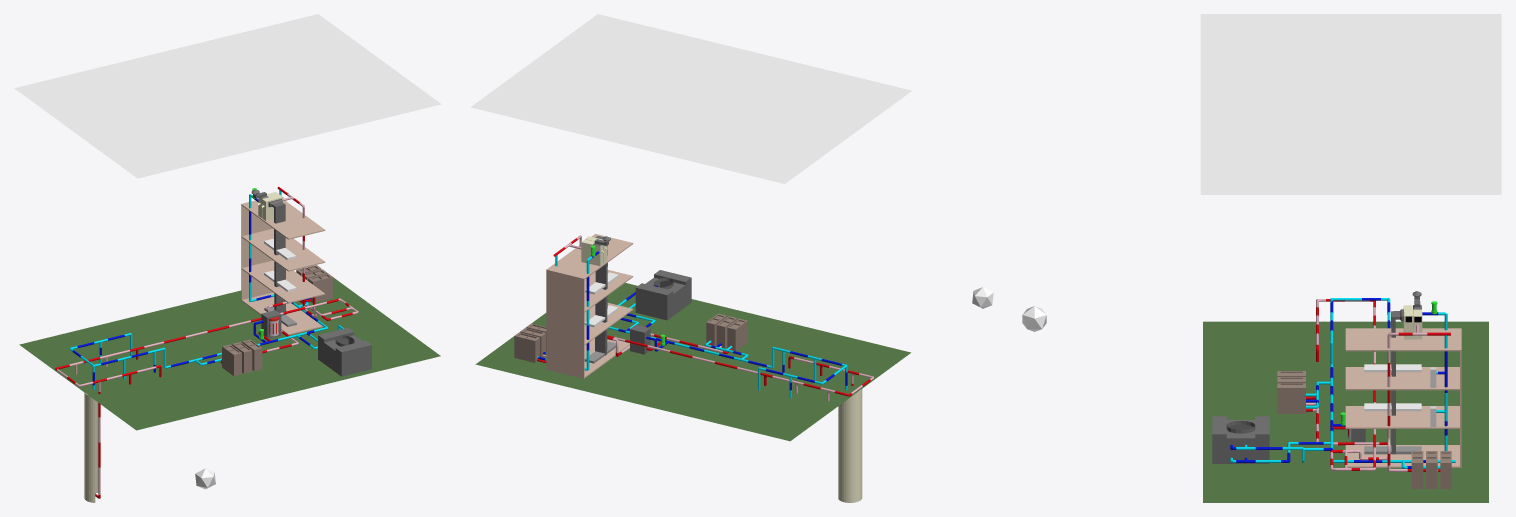
Rendered from coldmainV2.2.glb.
The picture shows the model from 3 angles, left to right: view 1: azimuth 30°, elevation 25°; view 2: azimuth 150°, elevation 25°; view 3: azimuth 270°, elevation 25°; orthographic projection. The views are drawn at different scales.
Parts seen in each view (by area): view 1: snowplane, grass, building, pipes.061, pipes.035, Air Cooler, LeftCeilingCooler, well, RMA1, RMA2, Boiler; view 2: snowplane, grass, building, well, pipes.035, Air Cooler, pipes.061, LeftCeilingCooler, RMA1, RMA2; view 3: snowplane, grass, building, pipes.035, Air Cooler, pipes.061, LeftCeilingCooler, RMA2, RMA1.
Part boxes in pixels (x1,y1,x2,y2): snowplane: [14, 14, 441, 178]; grass: [19, 273, 440, 430]; building: [241, 200, 325, 335]; pipes.061: [55, 186, 358, 498]; pipes.035: [69, 190, 343, 494]; Air Cooler: [318, 327, 371, 376]; LeftCeilingCooler: [261, 194, 296, 326]; well: [84, 392, 98, 502]; RMA1: [222, 339, 262, 375]; RMA2: [296, 265, 332, 302]; Boiler: [261, 310, 281, 338]; snowplane: [470, 14, 911, 183]; grass: [475, 283, 910, 441]; building: [546, 234, 633, 378]; well: [838, 389, 862, 502]; pipes.035: [537, 251, 847, 398]; Air Cooler: [635, 270, 691, 320]; pipes.061: [537, 235, 873, 401]; LeftCeilingCooler: [584, 236, 618, 363]; RMA1: [706, 313, 747, 351]; RMA2: [514, 323, 546, 362]; snowplane: [1200, 14, 1501, 194]; grass: [1203, 321, 1488, 502]; building: [1345, 328, 1461, 467]; pipes.035: [1230, 298, 1455, 468]; Air Cooler: [1212, 416, 1269, 463]; pipes.061: [1306, 299, 1450, 471]; LeftCeilingCooler: [1364, 305, 1421, 454]; RMA2: [1411, 451, 1451, 488]; RMA1: [1277, 371, 1305, 413].
Bounding box in the file's own units: 31.1 × 33.77 × 33.52.
